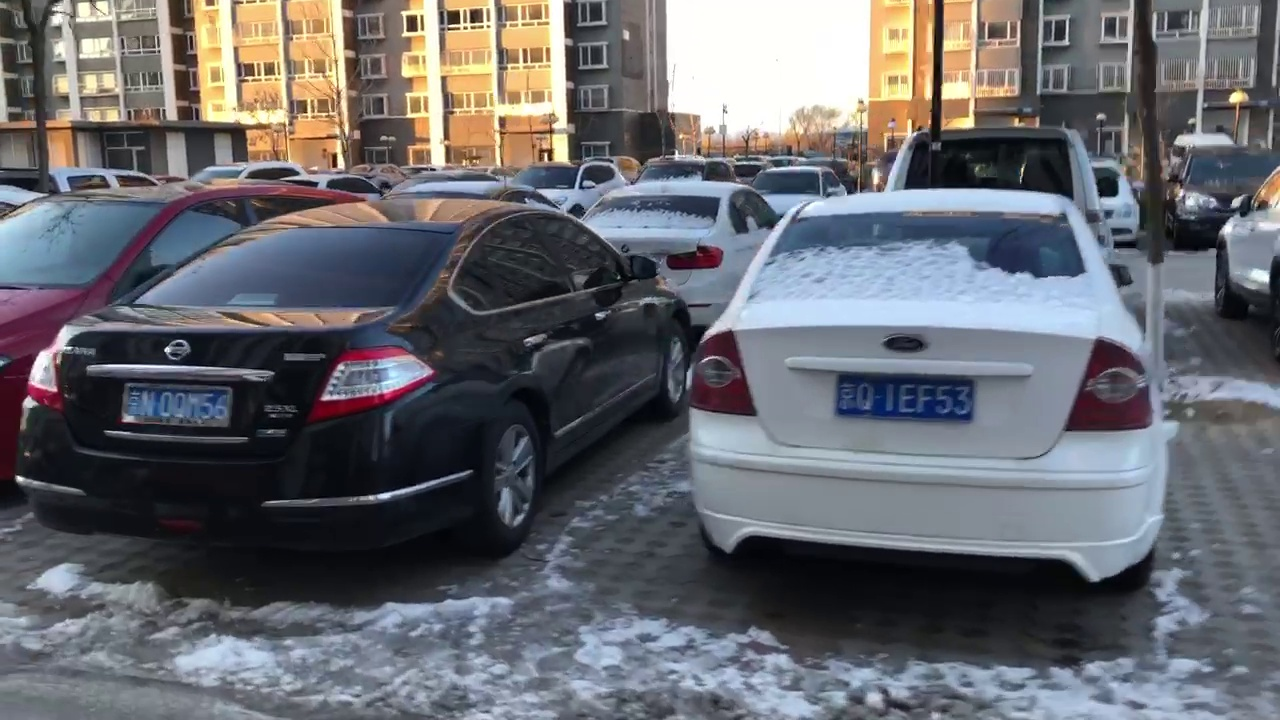plate: (841, 375, 979, 422), (120, 388, 240, 429)
